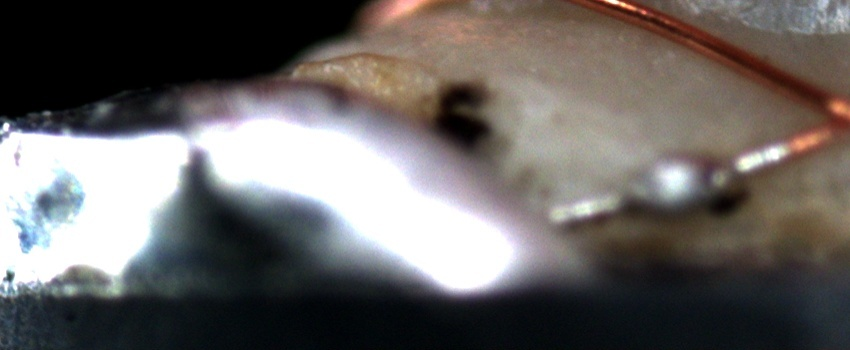TB: (628, 150, 744, 212)
TS: (550, 137, 788, 225)
TTCW: (541, 119, 832, 232)
